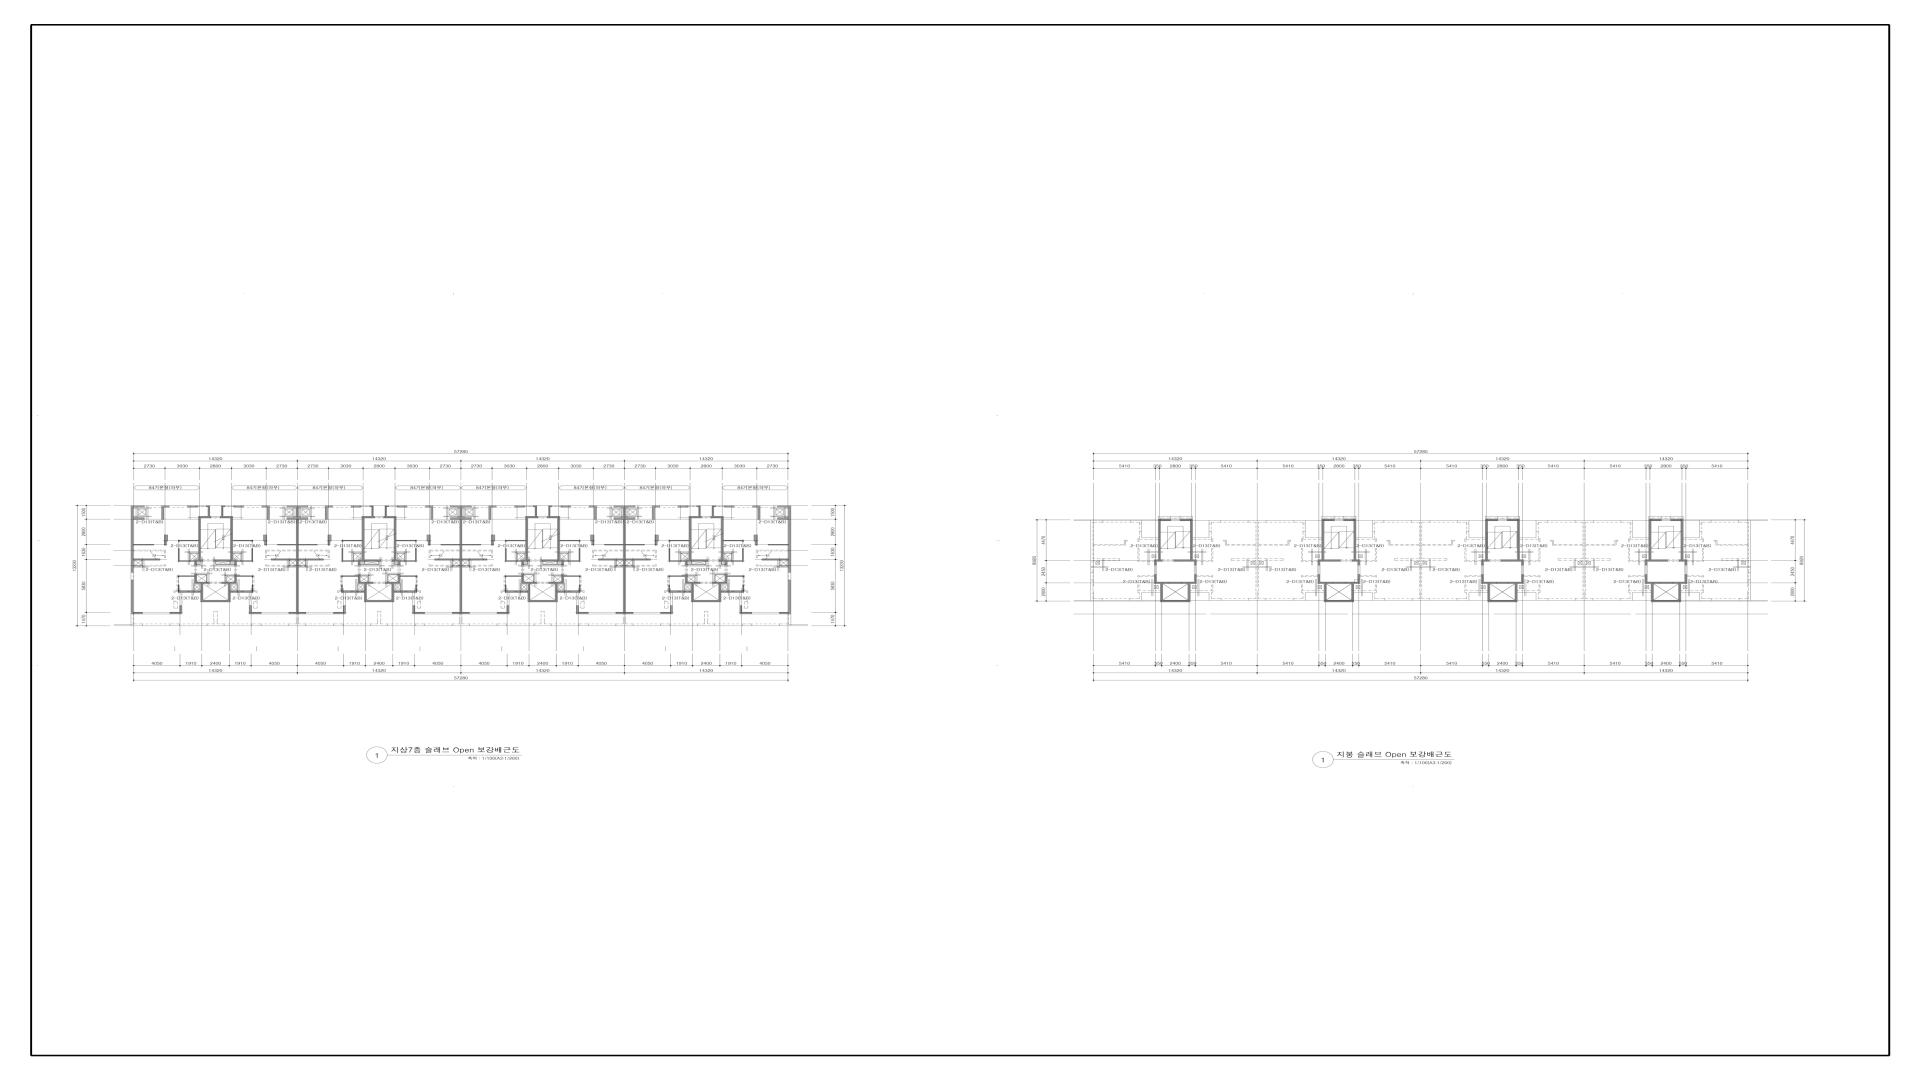wall: (624, 508, 626, 612), (297, 508, 299, 612), (131, 505, 133, 572), (460, 508, 462, 612), (198, 516, 200, 562), (558, 516, 560, 562), (231, 516, 233, 559), (361, 516, 364, 559), (394, 516, 397, 559), (688, 516, 691, 559), (721, 516, 724, 559), (1317, 582, 1361, 584), (1481, 582, 1524, 584), (1644, 582, 1688, 584), (789, 508, 791, 550), (1154, 582, 1196, 584), (1191, 518, 1193, 559), (1158, 518, 1160, 559), (1321, 518, 1324, 559), (1518, 518, 1520, 559), (1485, 518, 1487, 559), (1648, 518, 1651, 559), (1681, 518, 1684, 559), (131, 580, 133, 615), (789, 580, 791, 615), (691, 600, 721, 603), (1160, 600, 1191, 603), (1324, 600, 1354, 603), (1487, 600, 1518, 603), (1651, 600, 1681, 603), (203, 600, 228, 603), (367, 600, 392, 603), (530, 600, 555, 603), (357, 559, 381, 562), (1317, 559, 1341, 562), (1501, 559, 1524, 562), (1644, 559, 1668, 562), (450, 505, 472, 508), (686, 559, 708, 562), (1174, 559, 1196, 562), (526, 516, 527, 559), (214, 559, 235, 562), (287, 505, 309, 508), (615, 505, 636, 508), (789, 551, 791, 572), (1354, 518, 1356, 559), (178, 539, 198, 542), (233, 539, 253, 542), (342, 539, 361, 542), (397, 539, 417, 542), (505, 539, 525, 542), (560, 539, 580, 542), (669, 539, 688, 542), (724, 539, 744, 542), (200, 584, 203, 603), (228, 584, 231, 603), (364, 584, 367, 603), (392, 584, 394, 603), (527, 584, 530, 603), (555, 584, 558, 603), (342, 575, 359, 578), (541, 559, 558, 562), (289, 612, 306, 615), (452, 612, 469, 615), (616, 612, 633, 615), (178, 575, 194, 578), (222, 582, 237, 584), (237, 575, 253, 578), (357, 582, 373, 584), (385, 582, 401, 584), (401, 575, 417, 578), (505, 575, 521, 578), (549, 582, 564, 584), (564, 575, 580, 578), (691, 584, 694, 600), (719, 584, 721, 600), (712, 582, 728, 584), (1160, 584, 1163, 600), (1188, 584, 1191, 600), (1324, 584, 1327, 600), (1352, 584, 1354, 600), (1515, 584, 1518, 600), (1487, 584, 1490, 600), (1651, 584, 1654, 600), (1679, 584, 1681, 600), (595, 505, 597, 520), (133, 559, 160, 560), (196, 582, 210, 584), (462, 559, 488, 560), (524, 582, 537, 584), (778, 505, 791, 508), (762, 559, 789, 560), (272, 559, 297, 560), (298, 559, 323, 560), (435, 559, 460, 560), (599, 559, 624, 560), (133, 505, 145, 508), (133, 517, 145, 520), (161, 508, 164, 520), (653, 508, 655, 520), (688, 582, 700, 584), (758, 508, 761, 520), (626, 559, 650, 560), (178, 591, 200, 592), (231, 591, 253, 592), (342, 591, 364, 592), (394, 591, 417, 592), (505, 591, 527, 592), (558, 591, 580, 592), (669, 591, 691, 592), (721, 591, 744, 592), (133, 545, 154, 546), (194, 574, 196, 584), (187, 505, 198, 508), (233, 505, 244, 508), (286, 517, 297, 520), (351, 505, 361, 508), (397, 505, 407, 508), (450, 517, 460, 520), (462, 517, 472, 520), (514, 505, 525, 508), (560, 505, 571, 508), (678, 505, 688, 508), (686, 574, 688, 584), (724, 505, 735, 508), (778, 517, 789, 520), (200, 516, 211, 518), (220, 516, 231, 518), (364, 516, 375, 518), (384, 516, 394, 518), (527, 516, 538, 518), (547, 516, 558, 518), (691, 516, 702, 518), (711, 516, 721, 518), (1180, 518, 1191, 521), (1160, 518, 1171, 521), (1344, 518, 1354, 521), (1324, 518, 1335, 521), (1507, 518, 1518, 521), (1487, 518, 1498, 521), (1651, 518, 1662, 521), (1671, 518, 1681, 521), (164, 534, 167, 541), (591, 534, 595, 541), (754, 534, 758, 541), (440, 545, 460, 546), (604, 545, 624, 546), (133, 612, 142, 615), (299, 517, 309, 520), (392, 559, 401, 562), (521, 559, 530, 562), (521, 575, 524, 584), (615, 517, 624, 520), (626, 517, 636, 520), (667, 575, 686, 576), (779, 612, 789, 615), (170, 612, 179, 615), (252, 612, 261, 615), (334, 612, 343, 615), (415, 612, 425, 615), (497, 612, 506, 615), (179, 605, 182, 615), (299, 545, 318, 546), (249, 605, 252, 615), (343, 605, 345, 615), (413, 605, 415, 615), (506, 605, 509, 615), (626, 545, 645, 546), (661, 612, 670, 615), (670, 605, 673, 615), (579, 612, 588, 615), (576, 605, 579, 615), (742, 612, 752, 615), (740, 605, 742, 615), (1352, 559, 1361, 562), (1481, 559, 1490, 562), (1679, 559, 1688, 562), (161, 505, 169, 508), (178, 560, 194, 562), (237, 560, 253, 562), (357, 574, 360, 582), (427, 535, 431, 541), (562, 574, 564, 582), (653, 505, 661, 508), (670, 560, 686, 562), (728, 575, 744, 576), (720, 559, 728, 562), (753, 505, 761, 508), (1154, 574, 1156, 582), (1154, 559, 1162, 562), (343, 560, 357, 562), (401, 560, 415, 562), (431, 505, 433, 520), (506, 560, 521, 562), (564, 560, 579, 562), (728, 560, 742, 562), (235, 575, 237, 582), (235, 559, 237, 566), (262, 505, 269, 508), (326, 505, 332, 508), (328, 534, 331, 541), (398, 575, 401, 582), (342, 549, 343, 562), (489, 505, 496, 508), (505, 549, 506, 562), (579, 549, 580, 562), (669, 549, 670, 562), (725, 575, 728, 582), (742, 549, 744, 562), (415, 549, 417, 562), (1317, 575, 1320, 582), (1358, 575, 1361, 582), (1481, 575, 1484, 582), (1522, 575, 1524, 582), (1685, 575, 1688, 582), (1644, 575, 1647, 582), (178, 549, 179, 560), (252, 549, 253, 560), (268, 508, 269, 520), (326, 508, 327, 520), (489, 508, 491, 520), (264, 535, 266, 541), (426, 505, 431, 508), (492, 535, 495, 541), (589, 505, 595, 508), (655, 535, 658, 541), (699, 505, 700, 516), (712, 505, 713, 516), (549, 505, 550, 516), (535, 505, 537, 516), (385, 505, 386, 516), (372, 505, 373, 516), (222, 505, 223, 516), (208, 505, 210, 516), (655, 541, 658, 546), (756, 541, 758, 546), (194, 559, 198, 562), (194, 562, 196, 566), (357, 562, 360, 566), (398, 562, 401, 566), (521, 562, 524, 566), (560, 559, 564, 562), (562, 562, 564, 566), (725, 562, 728, 566), (264, 541, 266, 545), (429, 541, 431, 545), (592, 541, 595, 545), (1195, 574, 1196, 582), (1154, 562, 1156, 566), (1358, 562, 1361, 566), (1317, 562, 1320, 566), (1522, 562, 1524, 566), (1481, 562, 1484, 566), (1644, 562, 1647, 566), (1685, 562, 1688, 566), (342, 584, 343, 591), (505, 584, 506, 591), (579, 584, 580, 591), (178, 584, 179, 591), (252, 584, 253, 591), (669, 584, 670, 591), (742, 584, 744, 591), (415, 584, 417, 591), (200, 559, 203, 562), (328, 541, 330, 546), (686, 562, 687, 566), (165, 541, 166, 545), (492, 541, 493, 545), (1195, 562, 1196, 566), (696, 505, 699, 506), (713, 505, 716, 506), (550, 505, 553, 506), (533, 505, 535, 506), (386, 505, 389, 506), (369, 505, 372, 506), (223, 505, 225, 506), (206, 505, 208, 506), (462, 545, 481, 545), (277, 545, 297, 545), (767, 545, 789, 545)
